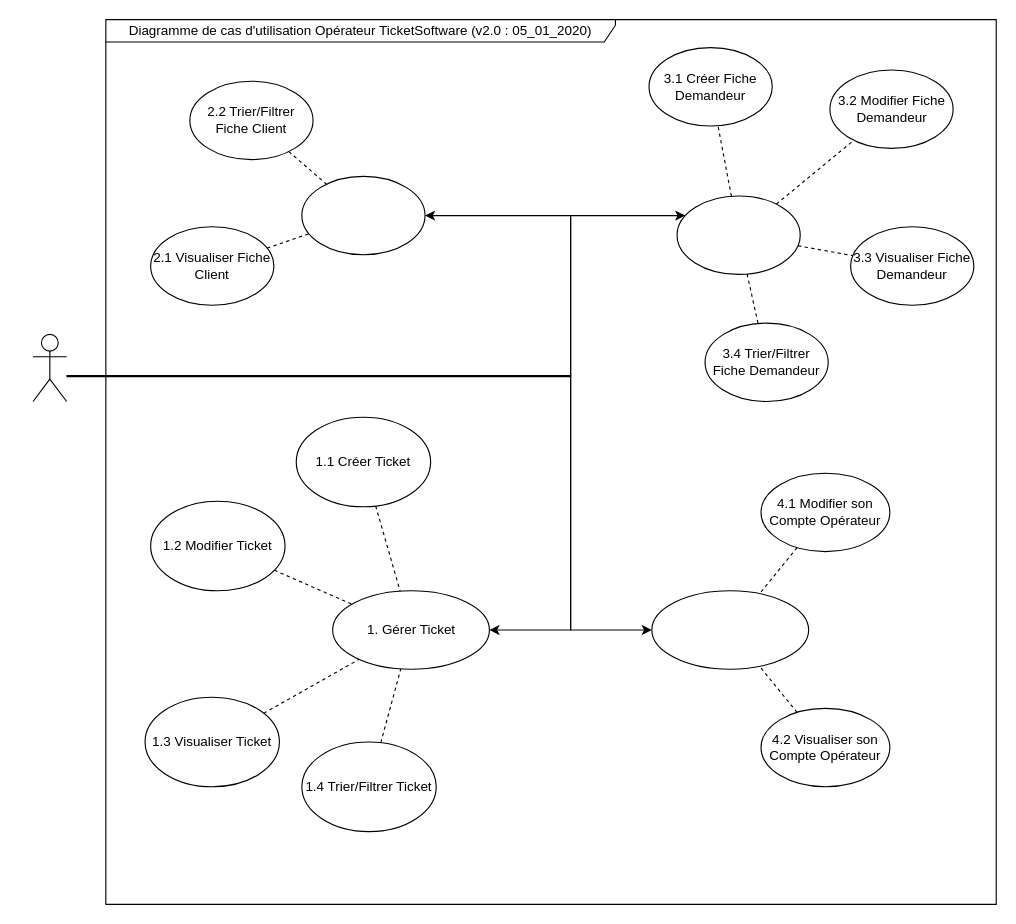
Some shapes in this 1016 by 924 pixel diagram are drawn without their labels. The shapes that lost their labels are listed below. From the top down, each one's centre as x and y in pixels, then its label:
At [363,215]: "2.Gérer Fiche Client (Entreprise)".
At [738,234]: "3.Gérer Fiche Demandeur (Employé Entreprise)".
At [49,367]: "Opérateur".
At [730,629]: "4. Gérer son Compte Opérateur".
